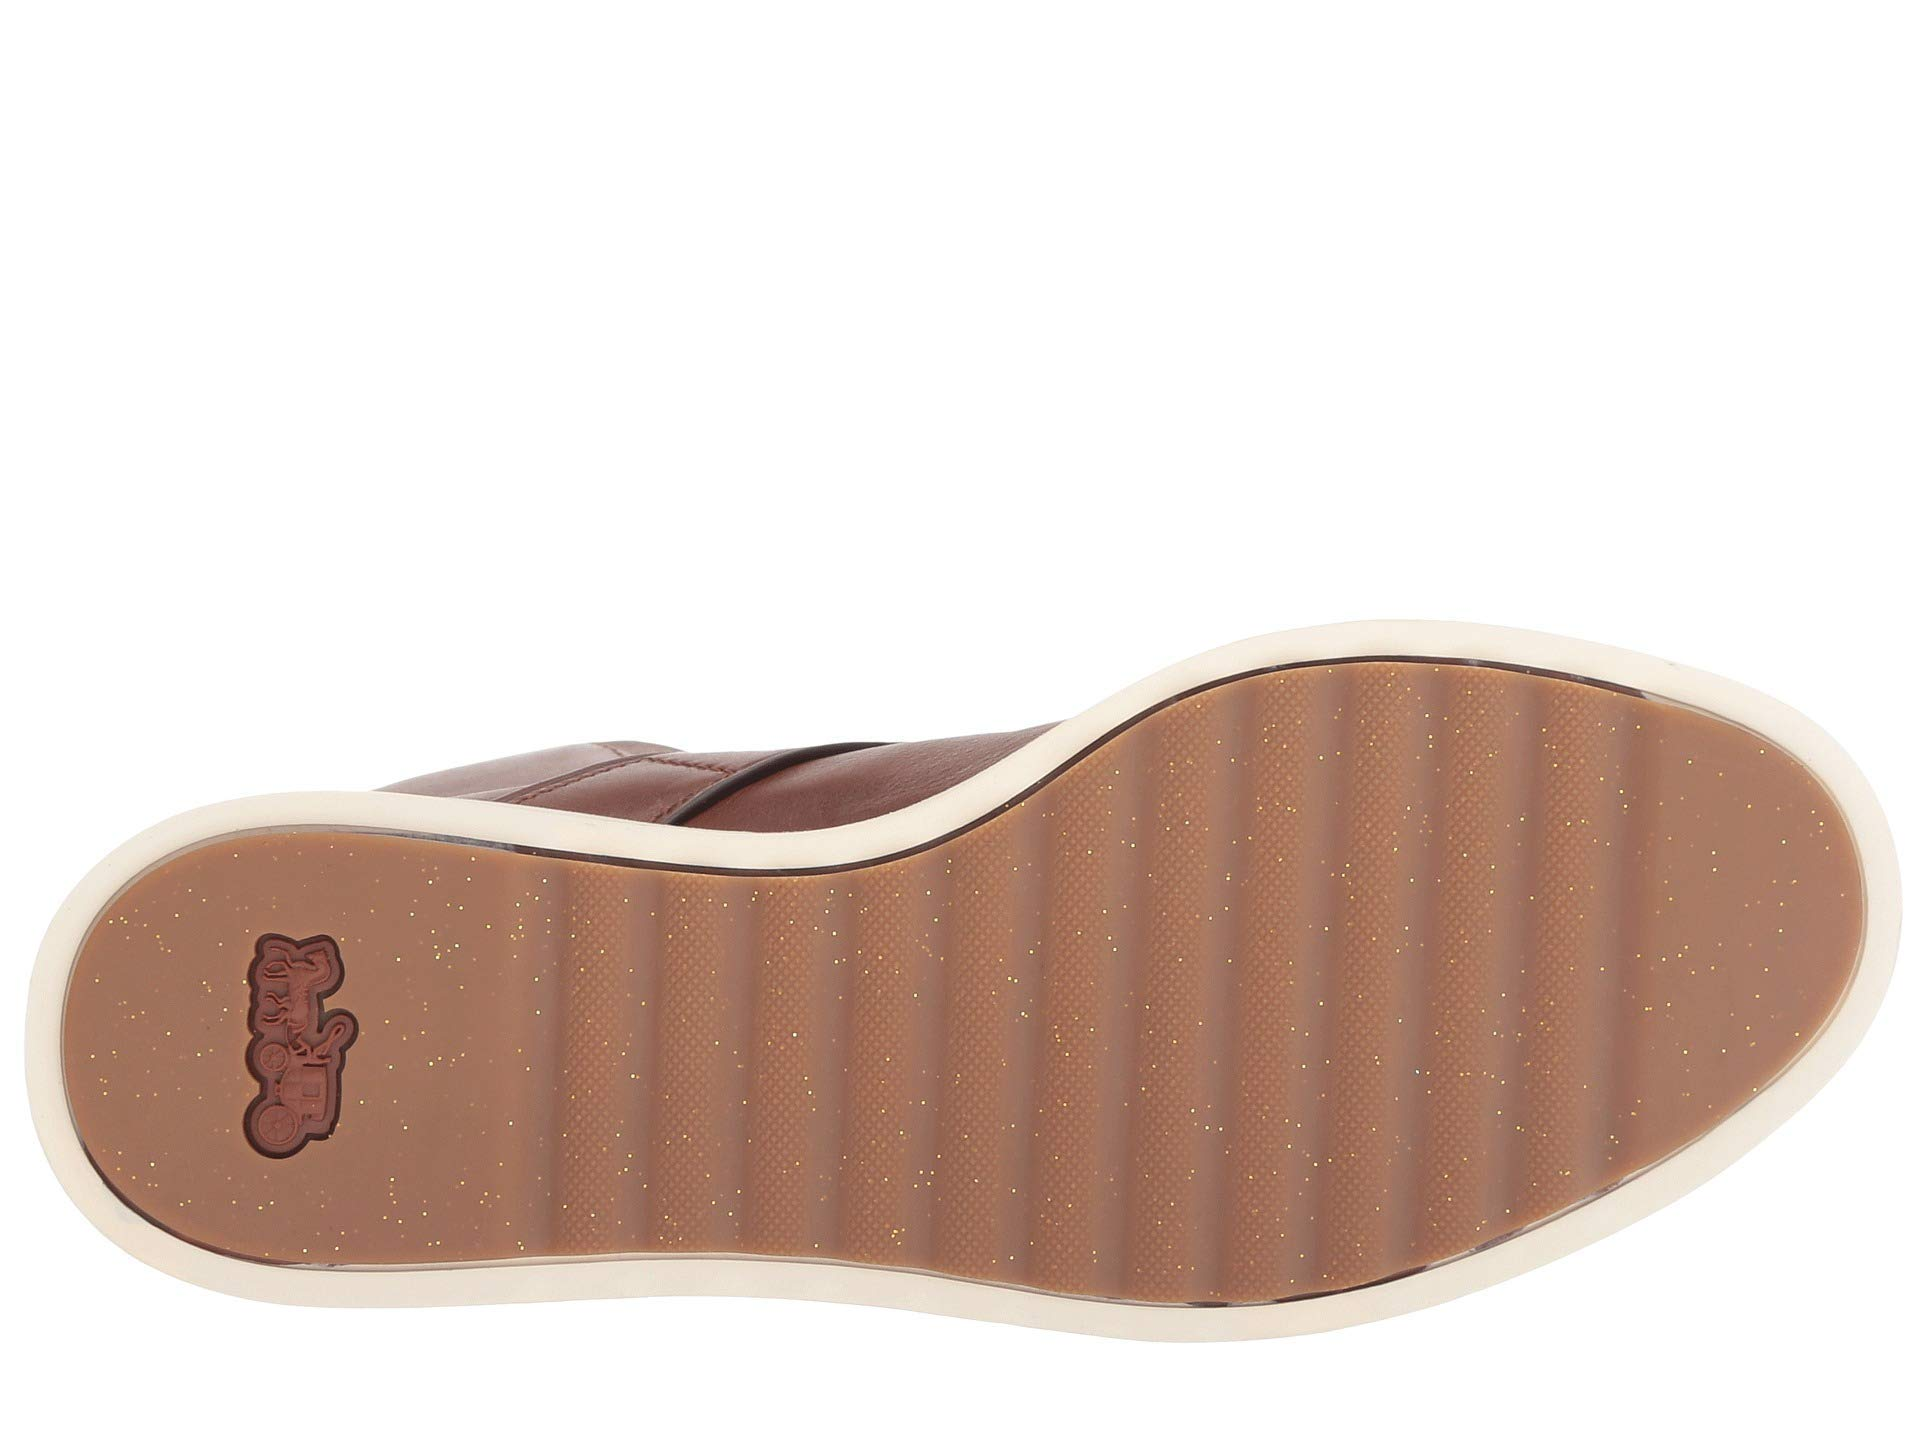line: (476, 667, 1645, 1319)
other: (230, 921, 375, 1168)
